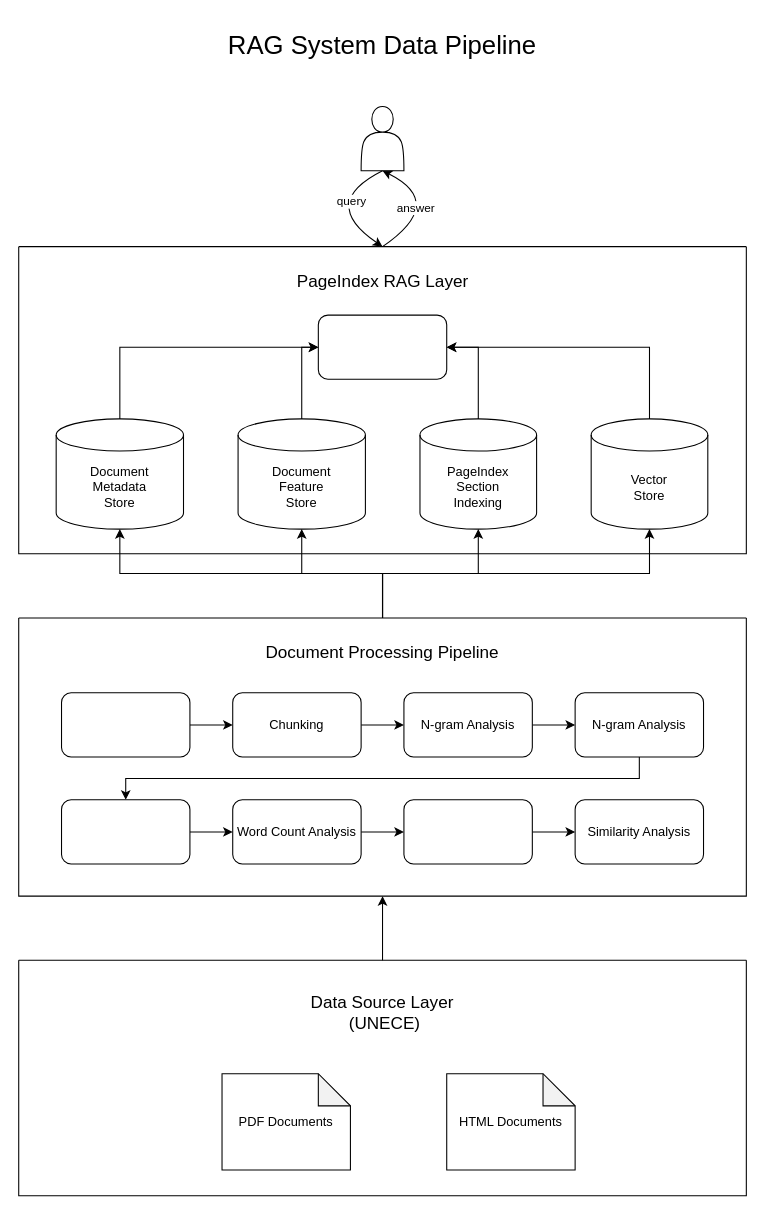
The diagram is 765 pixels wide and 1214 high, and some of its shapes have lost their labels. The shapes that lost their labels are listed below. From the top down, each one's centre as x and y in pixels, then its label:
At point 382,346: "LLM-powered Retrieval".
At point 125,724: "Text Extraction".
At point 125,831: "NER".
At point 467,831: "Keyword Extraction".
